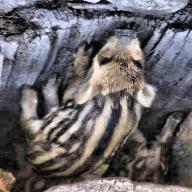boar: (27, 22, 154, 179), (128, 143, 161, 188)
